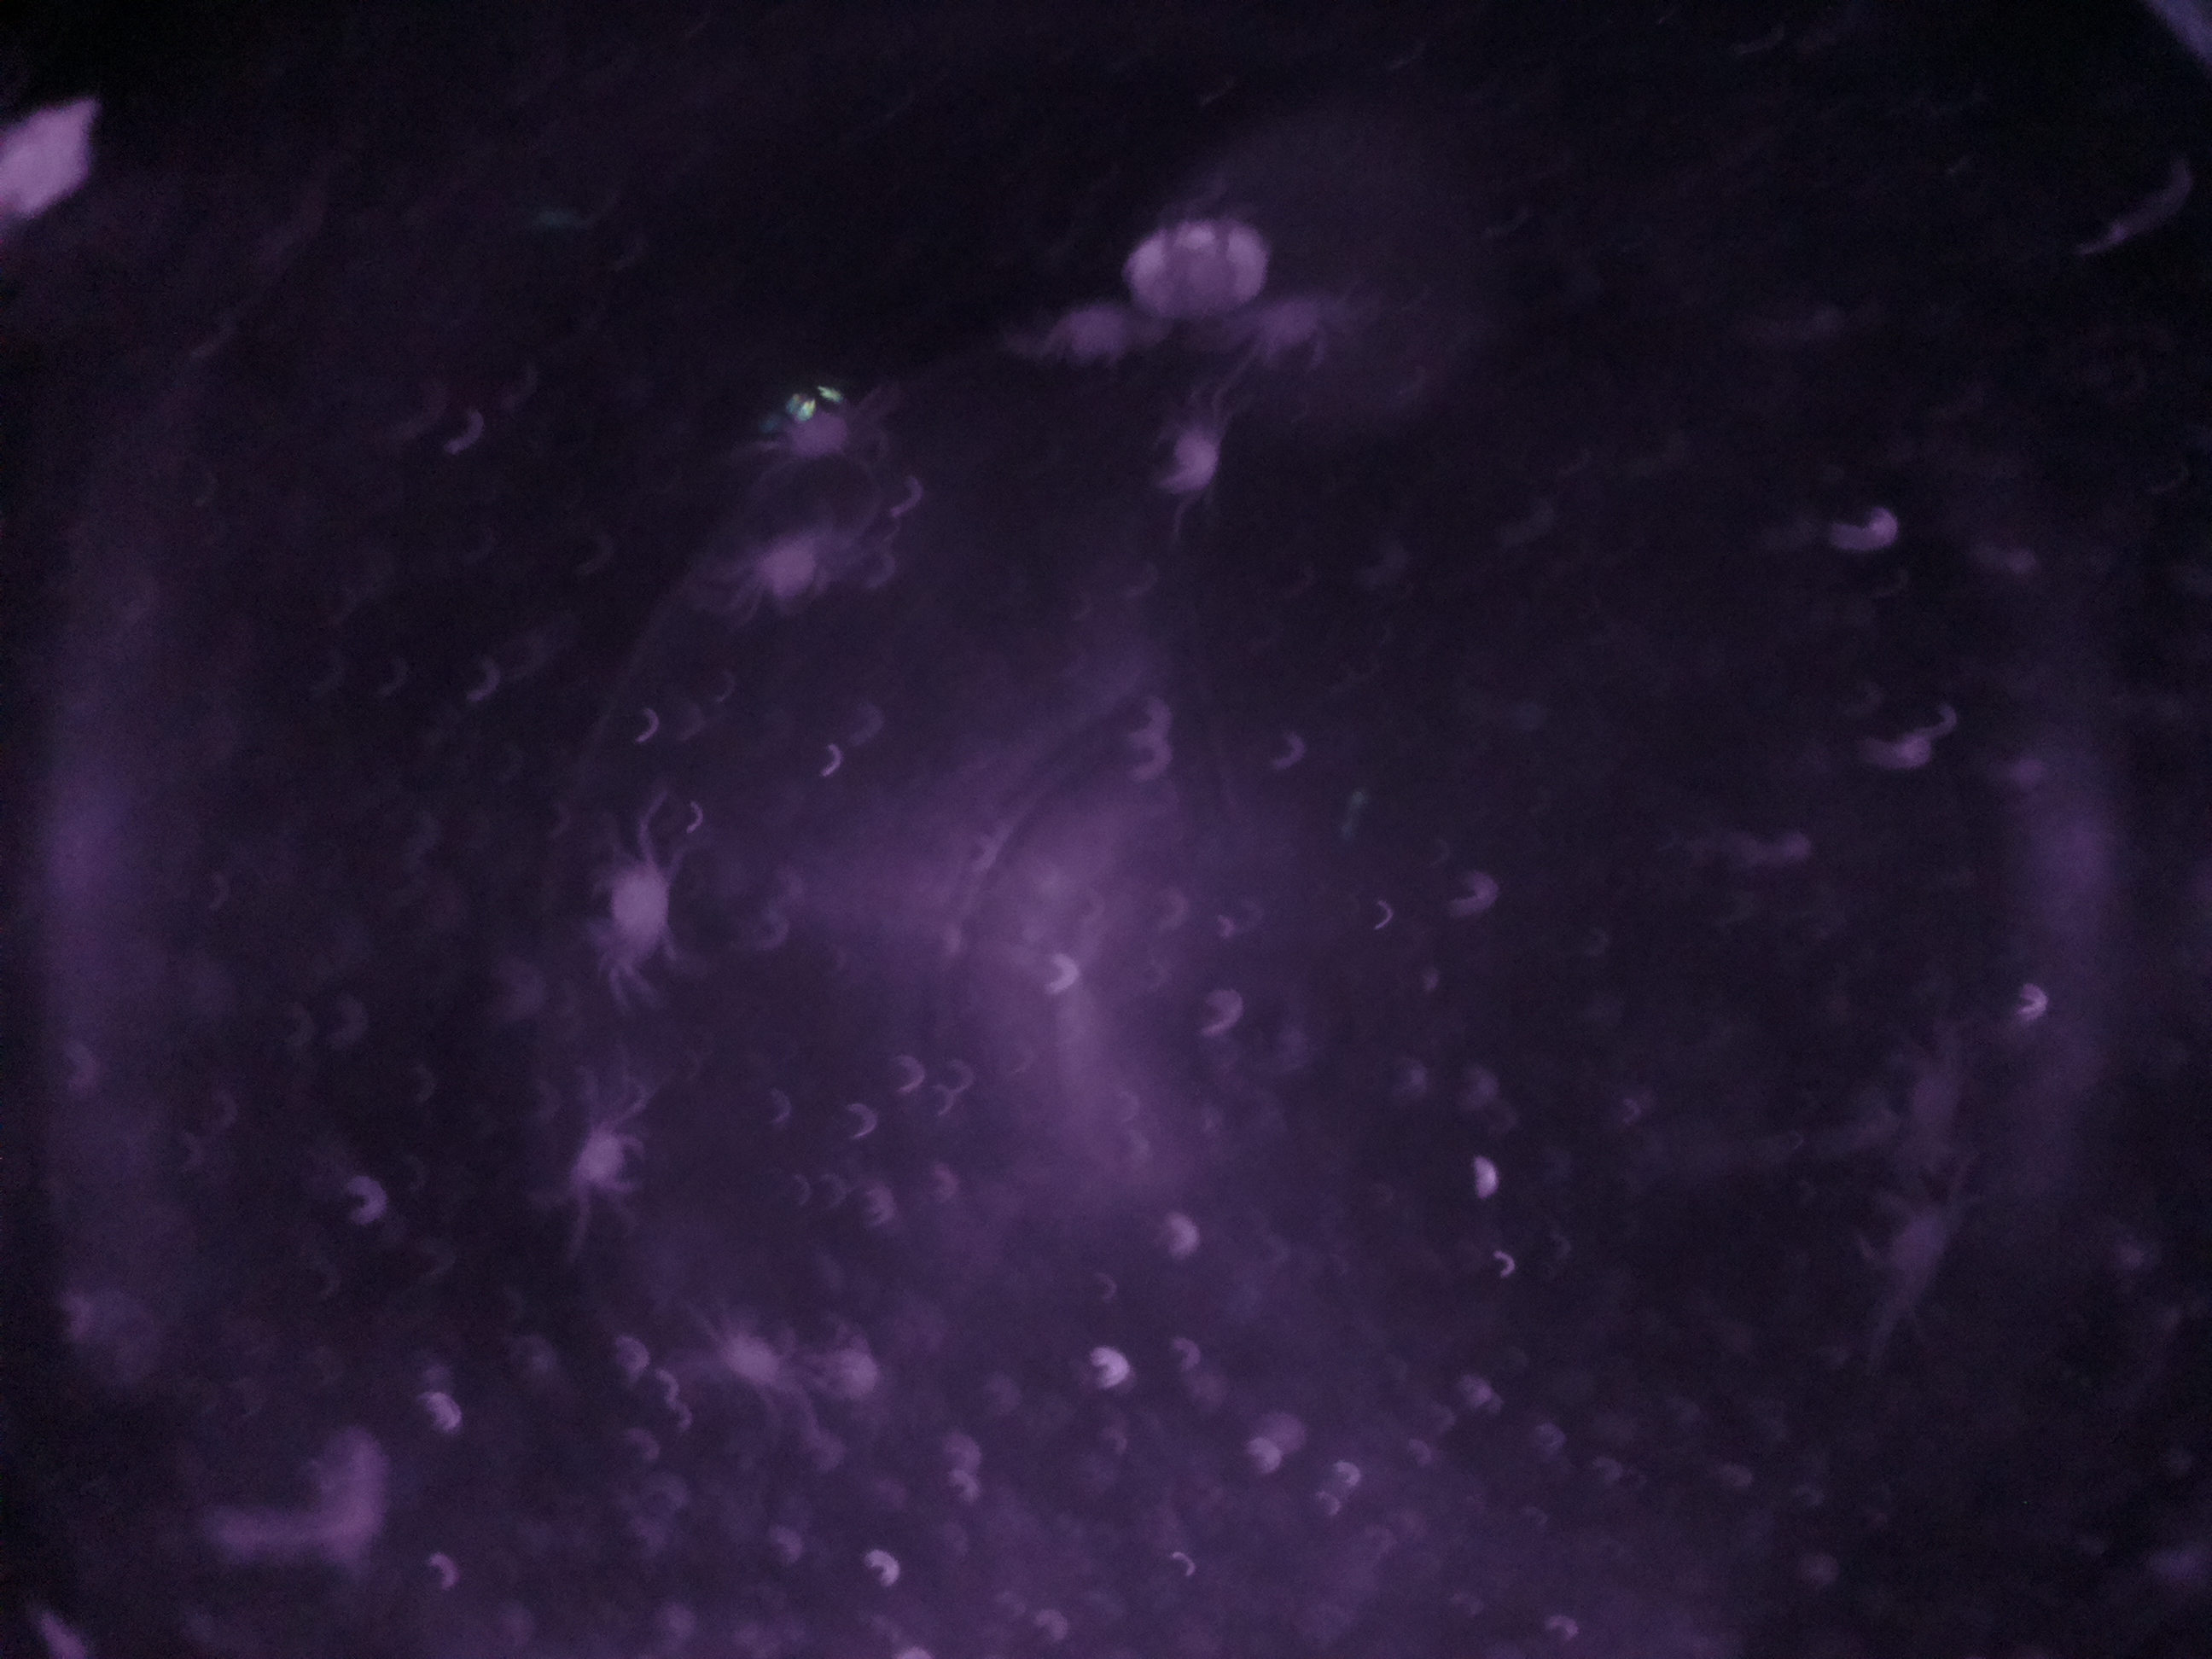Crab: (568, 833, 712, 976), (552, 1098, 664, 1208)
